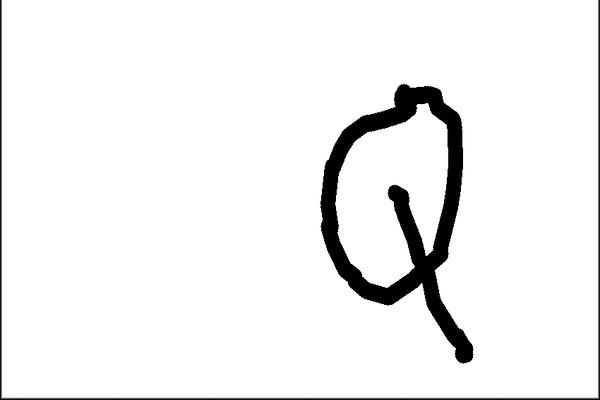Q: (303, 71, 490, 370)
